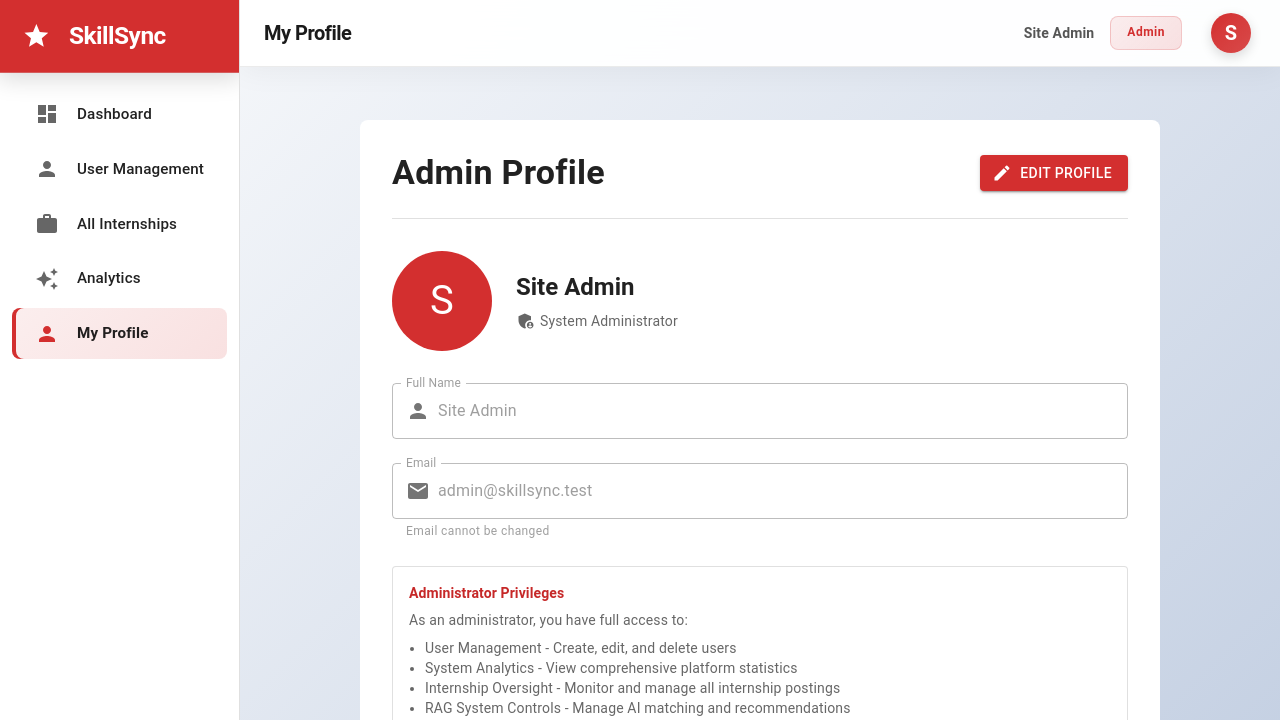
Test: renames the admin and shows the new name in the top bar
The width and height of the screenshot is (1280, 720).
Click the button "Edit Profile" at (1054, 173), box x1=980 y1=155 x2=1128 y2=191
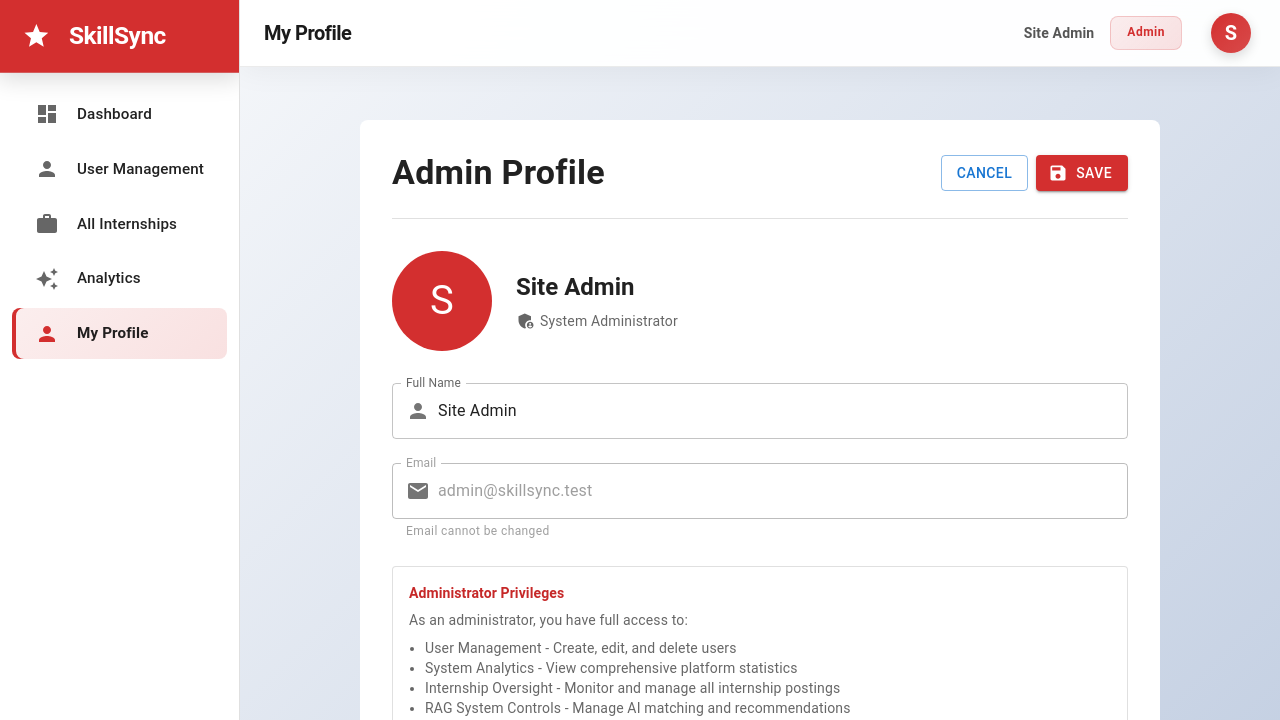
Expected: the field labelled "Email" is disabled, x1=438 y1=463 x2=1128 y2=519
Replace the text in the field labelled "Full Name" with "Head Admin" at (783, 411), box x1=438 y1=383 x2=1128 y2=439
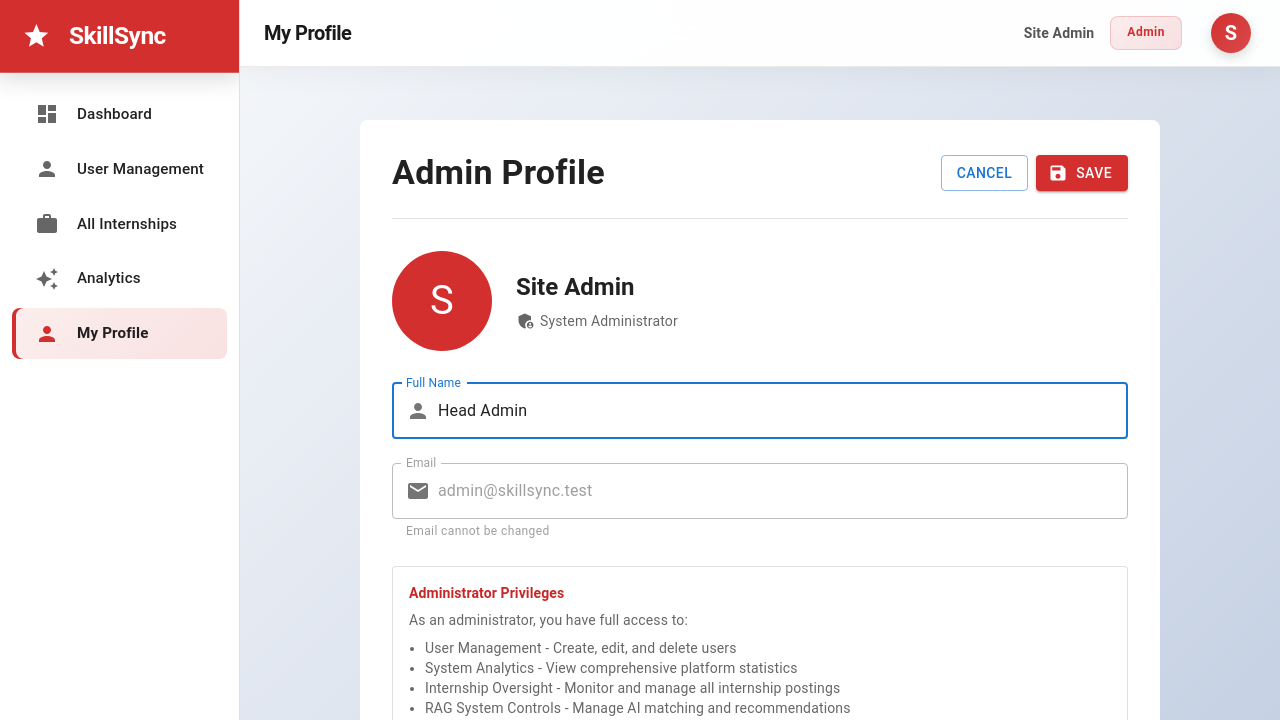
Click the button "Save" at (1082, 173), box x1=1036 y1=155 x2=1128 y2=191
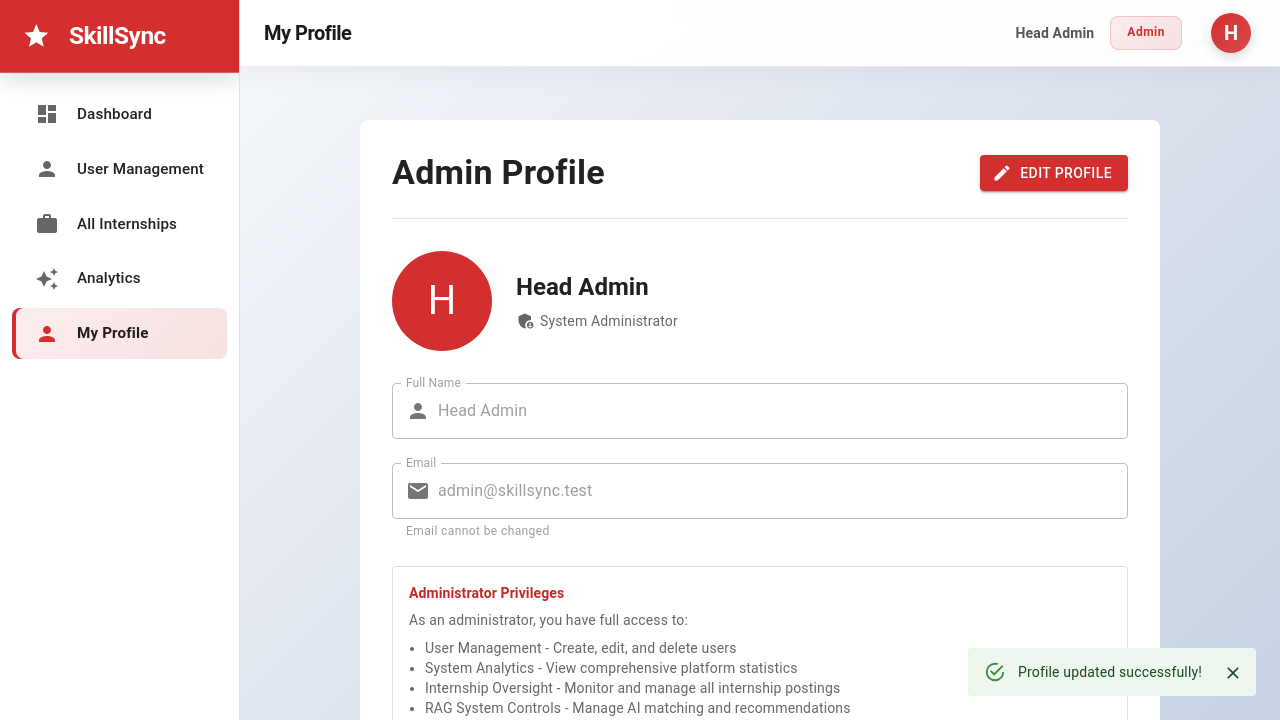
Expected: the text "Profile updated successfully!" is shown, x1=1018 y1=664 x2=1202 y2=680
